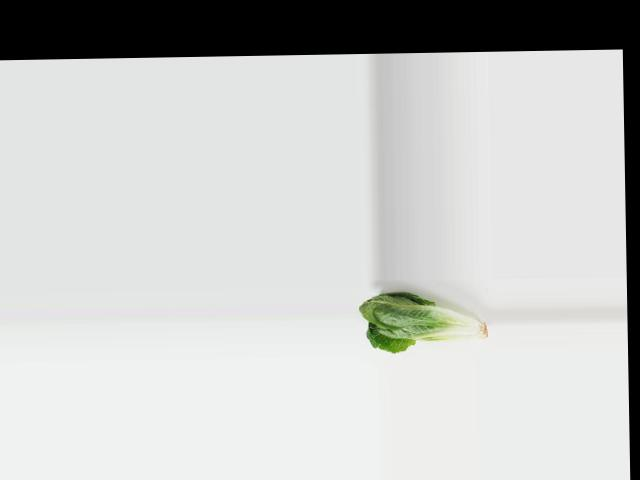lettuce: (358, 287, 494, 355)
